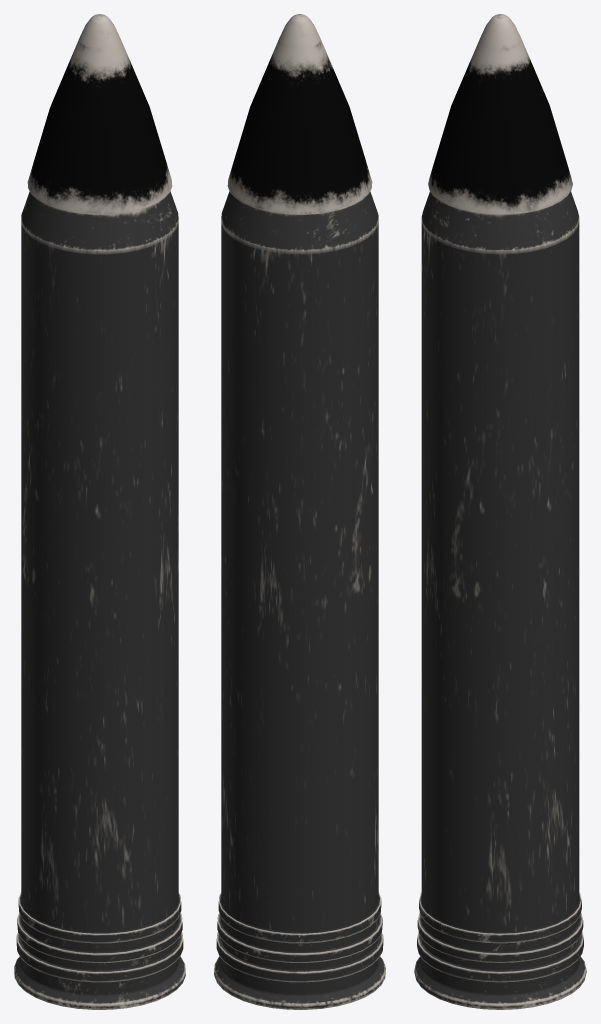
Rendered from bulletBig.fbx.
The picture shows the model from 3 angles, left to right: view 1: azimuth 30°, elevation 25°; view 2: azimuth 150°, elevation 25°; view 3: azimuth 270°, elevation 25°; orthographic projection.
Visible parts, largest first — view 1: b1; view 2: b1; view 3: b1.
Part boxes in pixels (<box>): b1: <box>14,14,185,1009</box>; b1: <box>214,14,385,1009</box>; b1: <box>414,14,586,1009</box>.
Size of the model in its own units: 59.59 by 367 by 59.59.
